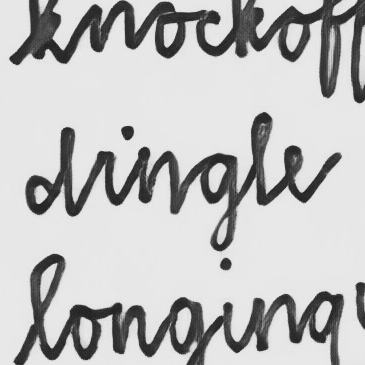d: (22, 124, 80, 219)
e: (280, 143, 323, 204)
g: (197, 151, 240, 254)
i: (96, 123, 131, 208)
l: (247, 109, 277, 207)
n: (134, 145, 183, 217)
